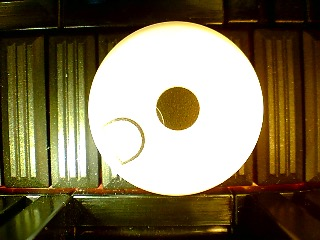BOHOMIPO1: (87, 21, 264, 197)
